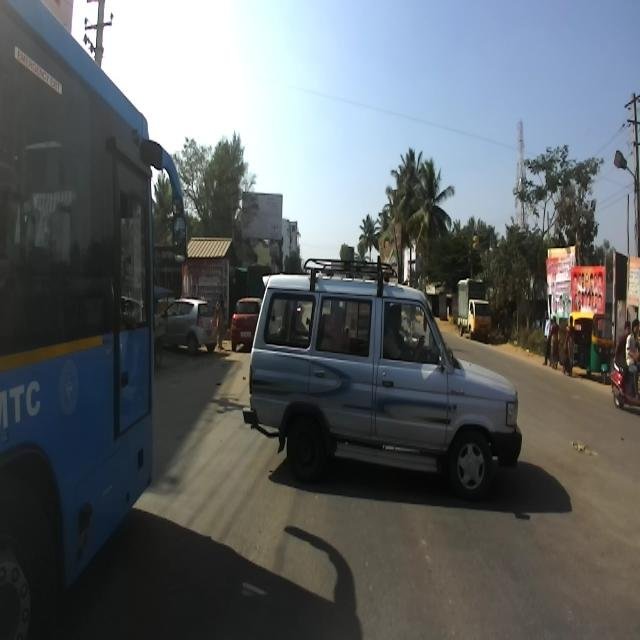Car: (156, 296, 218, 354)
Car_Maruti-Suzuki: (230, 298, 262, 351)
Car_Toyota: (241, 254, 523, 502)
autorickshaw: (568, 310, 614, 383)
bus: (23, 9, 170, 636)
scooter: (610, 348, 640, 406)
truck: (456, 273, 495, 337)
